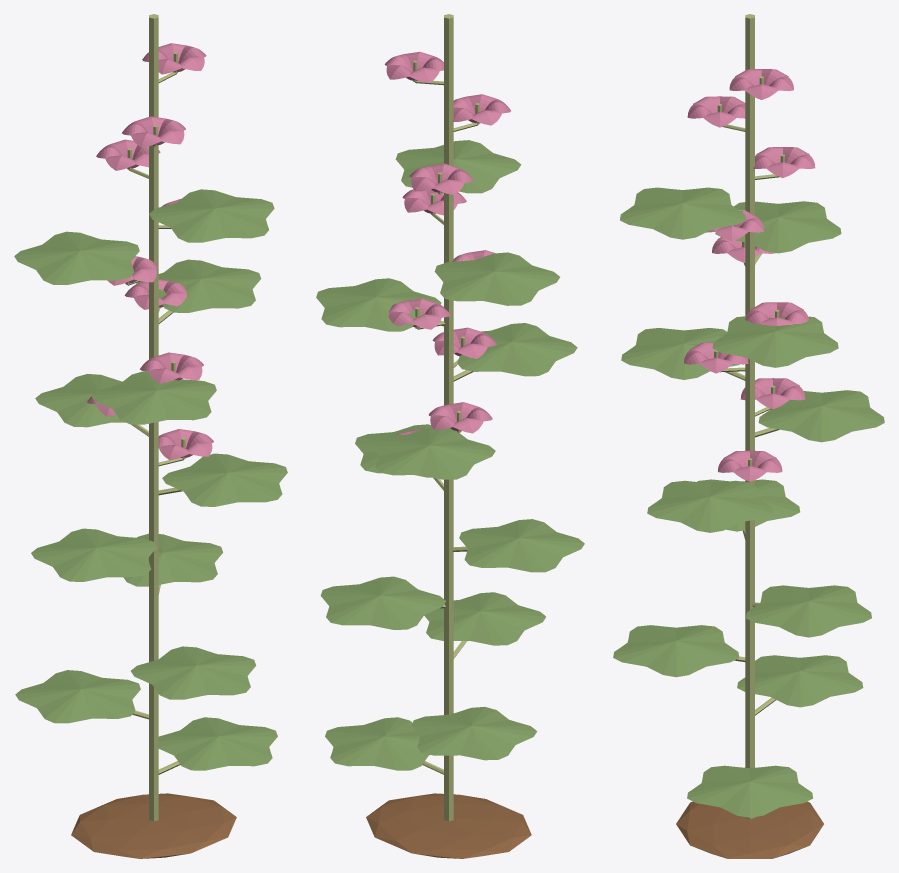
3 views of the same model, side by side, from view 1: azimuth 30°, elevation 25°; view 2: azimuth 150°, elevation 25°; view 3: azimuth 270°, elevation 25° (orthographic).
Visible parts, largest first — view 1: GF-634 Tall rose flower hollyhock batched; view 2: GF-634 Tall rose flower hollyhock batched; view 3: GF-634 Tall rose flower hollyhock batched.
Part boxes in pixels (x1,y1,x2,y2): GF-634 Tall rose flower hollyhock batched: [14, 14, 287, 858]; GF-634 Tall rose flower hollyhock batched: [316, 14, 584, 858]; GF-634 Tall rose flower hollyhock batched: [613, 14, 884, 858].
Bounding box in the file's own units: 0.4379 × 1.46 × 0.4396.
